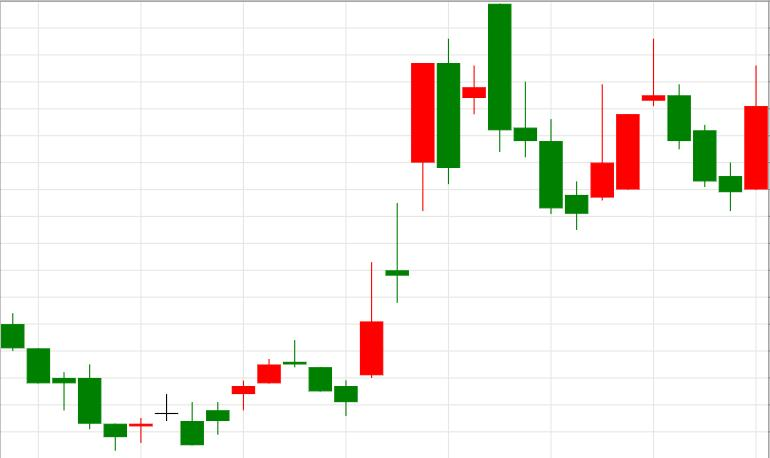bearish_engulfing_fall: (334, 4, 511, 416)
evening_star_fall: (181, 339, 332, 445)
